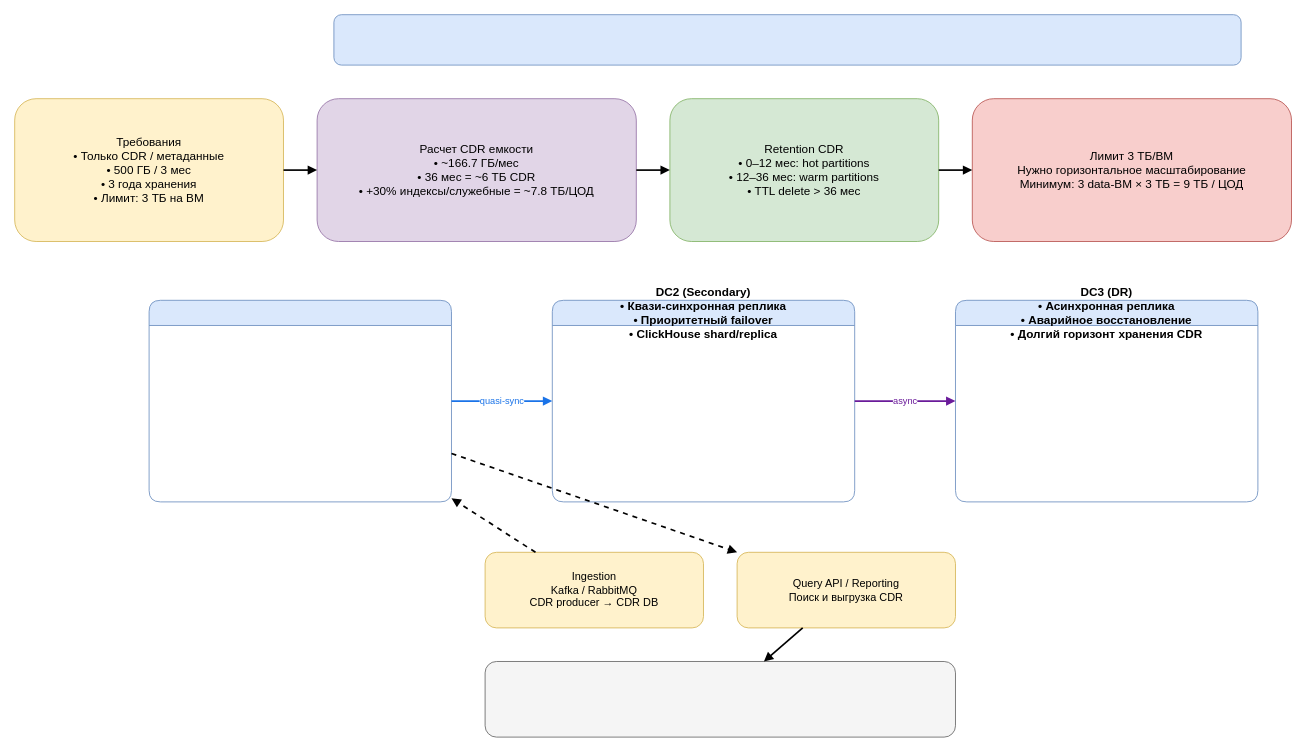
Image size: 1306x752. Some labels were removed from this diagram. The shapes that lost their labels are listed below. From the top down, each one's centre as x and y in pixels, then its label:
At (x=787, y=39): "Архитектура хранения CDR в 3 ЦОД (без аудиозаписей)".
At (x=300, y=400): "DC1 (Primary) • CDR ingestion • Основной read/write • ClickHouse shard/replica".
At (x=720, y=699): "SLA RPO: DC1→DC2 0–5 мин; DC1→DC3 15–60 мин RTO: DC2 15–30 мин; DC3 1–4 ч".
